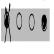correct: (40, 13, 48, 34)
not correct: (4, 2, 12, 47)
